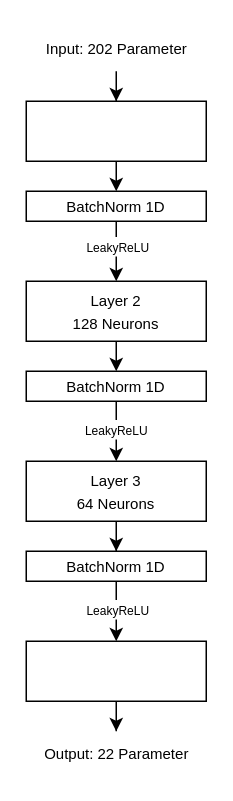
Some shapes in this 233 by 801 pixel diagram are drawn without their labels. The shapes that lost their labels are listed below. From the top down, each one's centre as x and y in pixels, then its label:
At pixel 115 130: "Layer 1 1024 Neurons".
At pixel 115 670: "Layer 4 22 Neurons".
